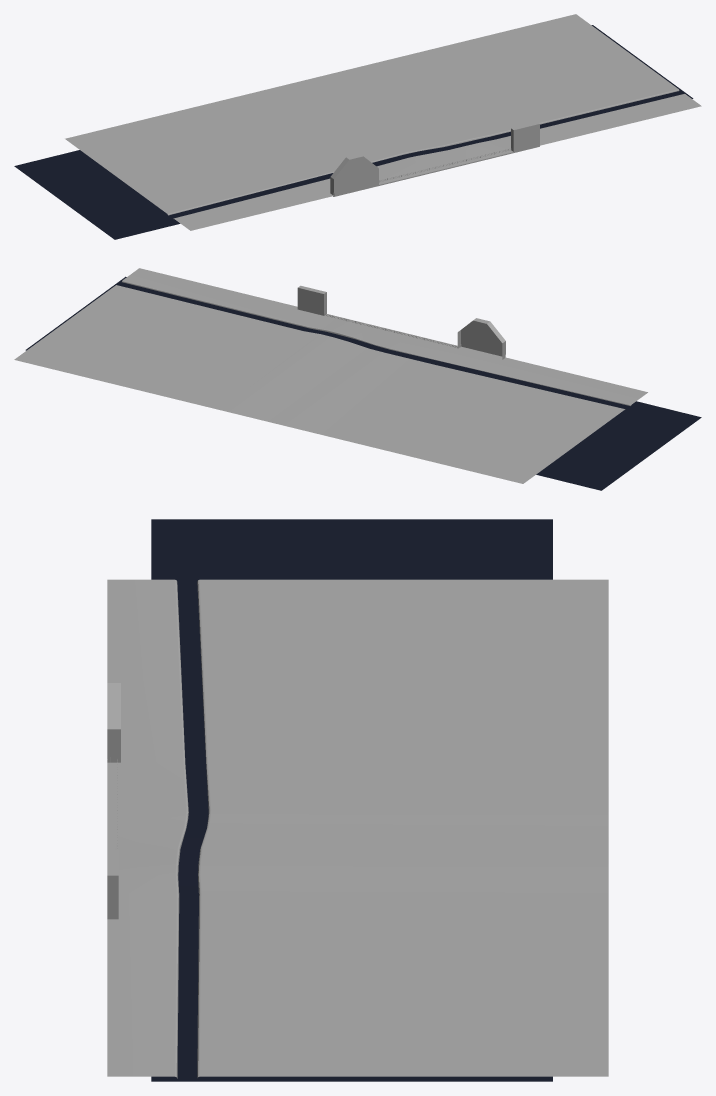
Rendered from WeilandTotaal.fbx.
The picture shows the model from 3 angles, top to bottom: view 1: azimuth 30°, elevation 25°; view 2: azimuth 150°, elevation 25°; view 3: azimuth 270°, elevation 25°; orthographic projection. The views are drawn at different scales.
Visible parts, largest first — view 1: polySurface4, polySurface6, pCube122, pCube121; view 2: polySurface4, polySurface6, pCube122, pCube121; view 3: polySurface4, polySurface6, pCube122.
Part boxes in pixels (bbox=[...]): polySurface4: bbox=[65, 14, 701, 230]; polySurface6: bbox=[14, 25, 693, 239]; pCube122: bbox=[330, 154, 378, 196]; pCube121: bbox=[511, 122, 539, 152]; polySurface4: bbox=[14, 268, 647, 483]; polySurface6: bbox=[25, 276, 701, 490]; pCube122: bbox=[457, 318, 505, 359]; pCube121: bbox=[297, 285, 326, 315]; polySurface4: bbox=[107, 579, 608, 1078]; polySurface6: bbox=[151, 519, 552, 1081]; pCube122: bbox=[107, 669, 120, 762].
Bounding box in the file's own units: 584 × 33.78 × 220.
